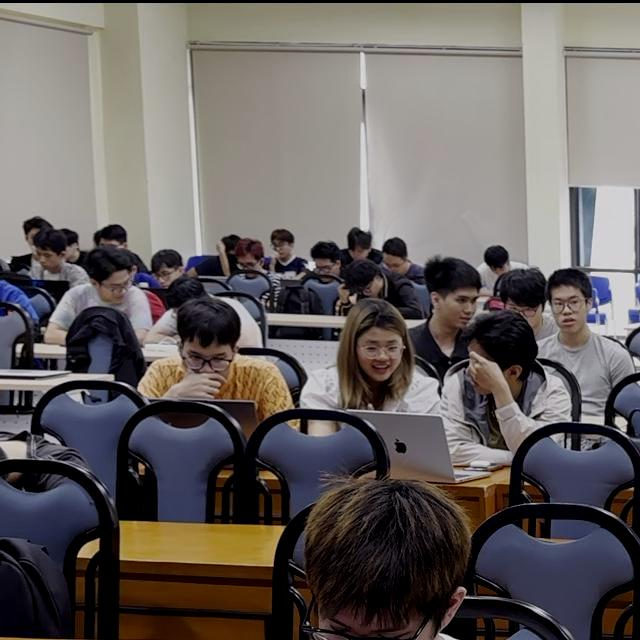Looking away: (179, 333, 237, 388), (359, 328, 403, 384), (440, 287, 479, 331), (96, 273, 132, 305)
Looking forward: (550, 287, 588, 332)
